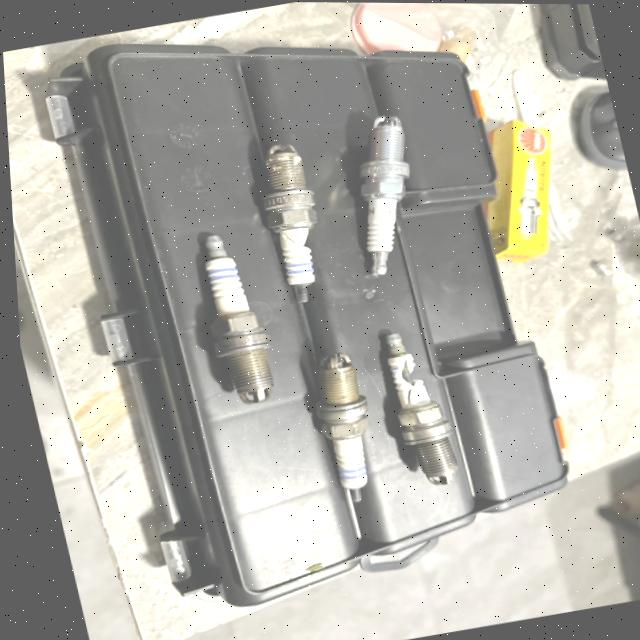damaged_spark-plug: (235, 134, 341, 311), (366, 320, 462, 492)
spark-plug: (323, 99, 442, 292), (168, 226, 288, 417), (290, 349, 390, 517)
